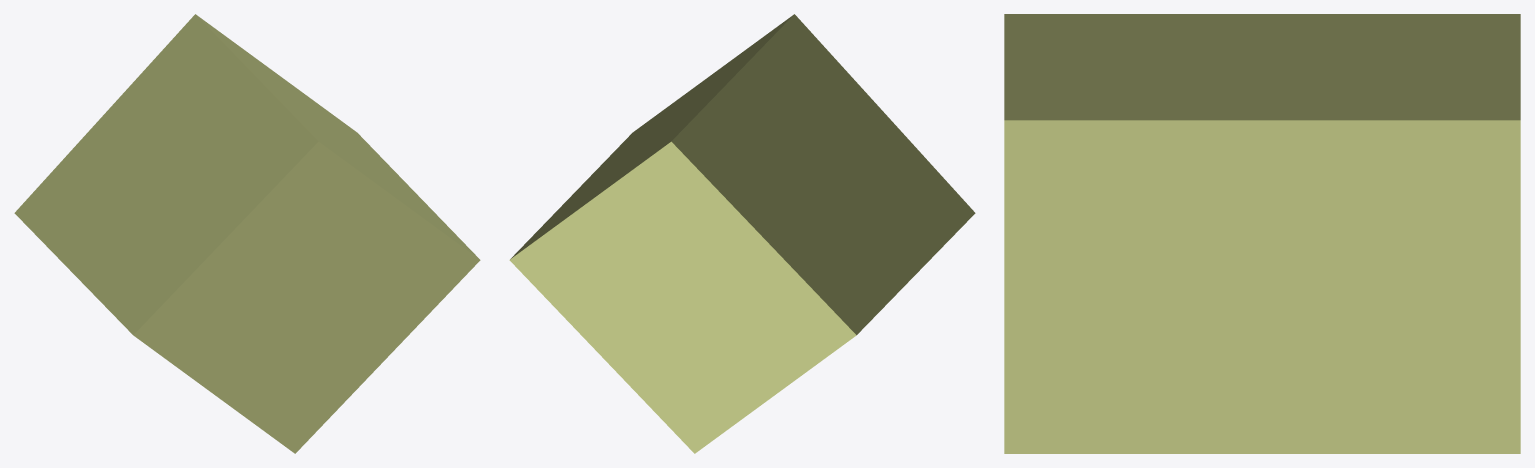
The picture shows the model from 3 angles, left to right: view 1: azimuth 30°, elevation 25°; view 2: azimuth 150°, elevation 25°; view 3: azimuth 270°, elevation 25°; orthographic projection. The views are drawn at different scales.
Visible parts, largest first — view 1: 0_1_2_0_1_1_0_0_0_0_1; view 2: 0_1_2_0_1_1_0_0_0_0_1; view 3: 0_1_2_0_1_1_0_0_0_0_1.
Part boxes in pixels (bbox=[...]): 0_1_2_0_1_1_0_0_0_0_1: bbox=[14, 14, 480, 453]; 0_1_2_0_1_1_0_0_0_0_1: bbox=[509, 14, 975, 453]; 0_1_2_0_1_1_0_0_0_0_1: bbox=[1004, 14, 1520, 453].
Size of the model in its own units: 9.76 by 9.39 by 9.
